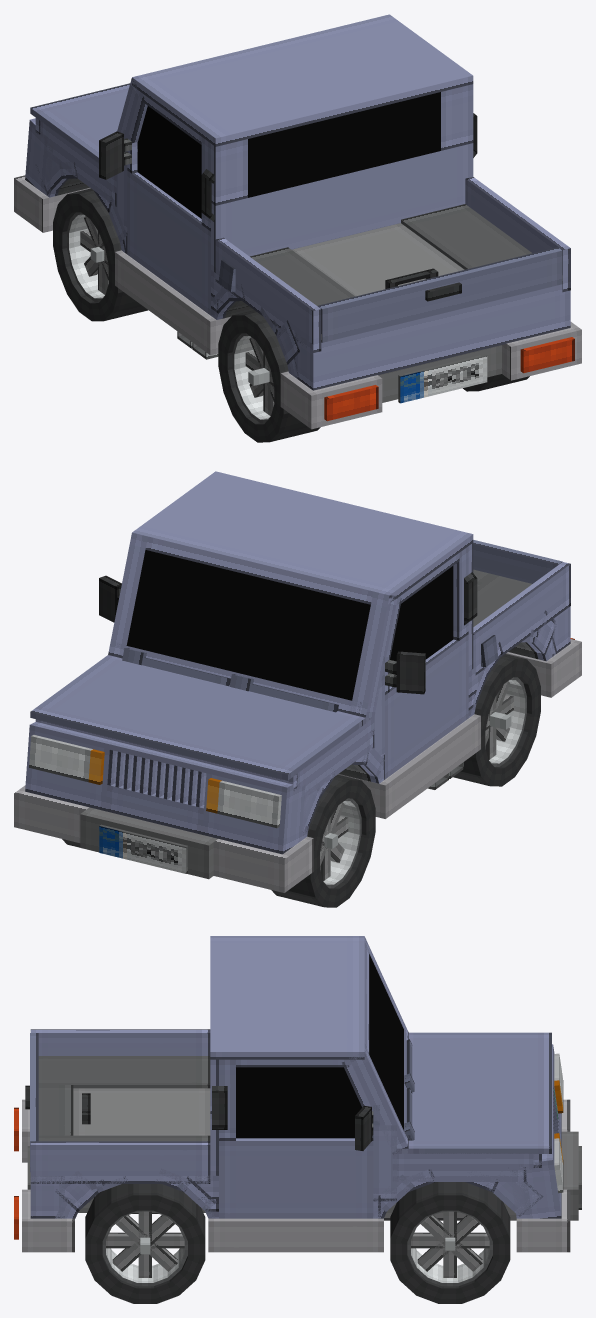
Rendered from mini truck.glb.
3 renders of one model, top to bottom at view 1: azimuth 30°, elevation 25°; view 2: azimuth 150°, elevation 25°; view 3: azimuth 270°, elevation 25°, orthographic. The views are drawn at different scales.
Visible parts, largest first — view 1: cube_77, cube_83, cube_79, cube_550, cube_141, cube_374, cube_116, cube_91, cube_89, cube_41, cube_82, cube_549 (+18 smaller); view 2: cube_548, cube_77, cube_82, cube_374, cube_91, cube_41, cube_29, cube_76, cube_549, cube_87, cube_31, cube_80 (+24 smaller); view 3: cube_77, cube_82, cube_372, cube_92, cube_551, cube_116, cube_42, cube_78, cube_91, cube_548, cube_103, cube_43 (+34 smaller).
Part boxes in pixels (x1,y1,x2,y2): cube_77: (132, 14, 473, 146); cube_83: (211, 143, 473, 272); cube_79: (294, 284, 570, 390); cube_550: (248, 92, 440, 197); cube_141: (317, 247, 562, 342); cube_374: (127, 170, 210, 315); cube_116: (292, 223, 464, 296); cube_91: (215, 237, 321, 352); cube_89: (401, 204, 562, 283); cube_41: (115, 250, 230, 355); cube_82: (30, 83, 130, 163); cube_549: (153, 110, 201, 218); cube_548: (126, 550, 370, 700); cube_77: (132, 471, 473, 602); cube_82: (30, 657, 362, 780); cube_374: (385, 634, 468, 779); cube_91: (473, 562, 570, 675); cube_41: (338, 714, 480, 818); cube_29: (213, 836, 313, 892); cube_76: (202, 773, 305, 854); cube_549: (399, 566, 453, 659); cube_87: (145, 536, 373, 604); cube_31: (80, 807, 217, 879); cube_80: (349, 591, 397, 718); cube_77: (210, 936, 364, 1059); cube_82: (413, 1032, 551, 1153); cube_372: (219, 1138, 373, 1218); cube_92: (30, 1141, 210, 1183); cube_551: (236, 1067, 335, 1138); cube_116: (73, 1088, 210, 1135); cube_42: (208, 1218, 383, 1252); cube_78: (38, 1056, 210, 1088); cube_91: (30, 1029, 210, 1055); cube_548: (369, 954, 403, 1130); cube_103: (392, 1153, 534, 1169); cube_43: (516, 1189, 570, 1252).
Size of the model in its own units: 0.9466 by 0.7608 by 1.55.
1 material, 1 textured.
